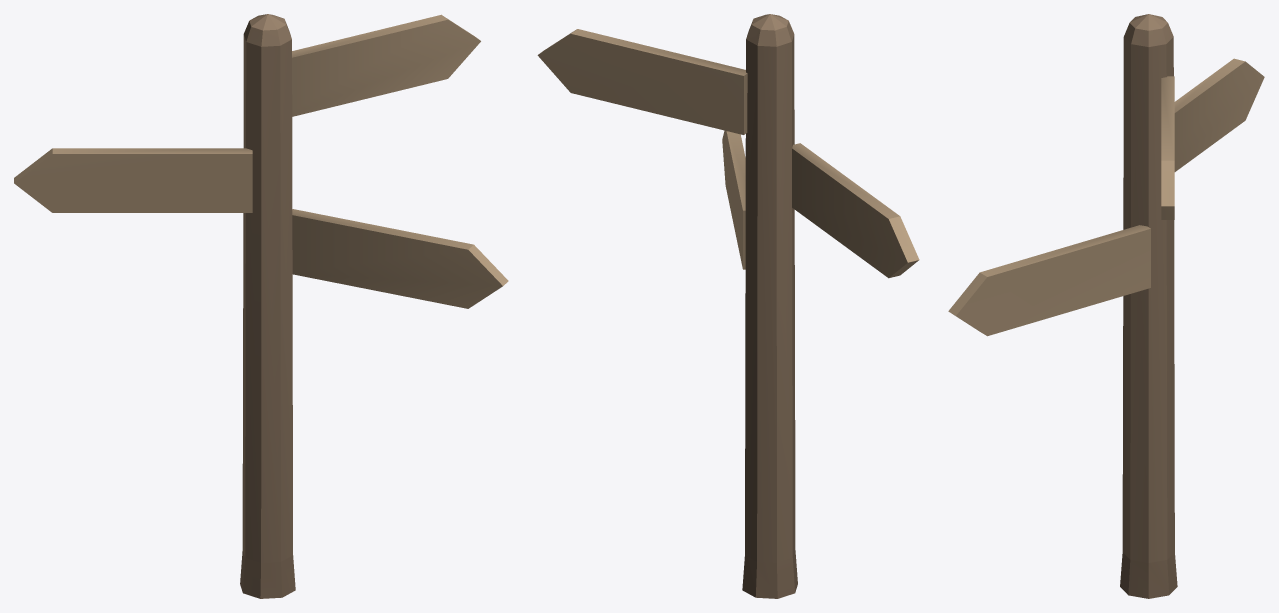
File: sign_trail_low.glb
The picture shows the model from 3 angles, left to right: view 1: azimuth 30°, elevation 25°; view 2: azimuth 150°, elevation 25°; view 3: azimuth 270°, elevation 25°; orthographic projection.
Visible parts, largest first — view 1: sign_trail; view 2: sign_trail; view 3: sign_trail.
Boxes of the visible parts, <box> form: sign_trail: <box>14,14,508,598</box>; sign_trail: <box>537,14,919,598</box>; sign_trail: <box>948,14,1264,598</box>.
Size of the model in its own units: 1.27 by 1.65 by 0.8238.
